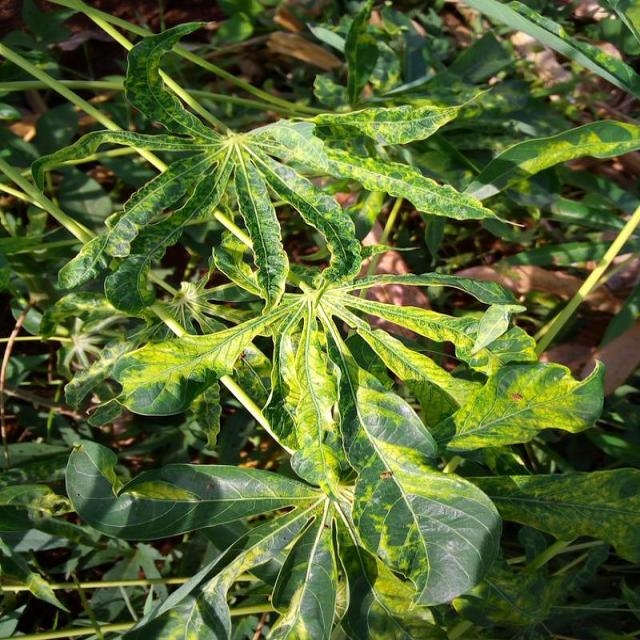Mosaico: (72, 43, 489, 283), (164, 188, 471, 468), (119, 423, 513, 620)
